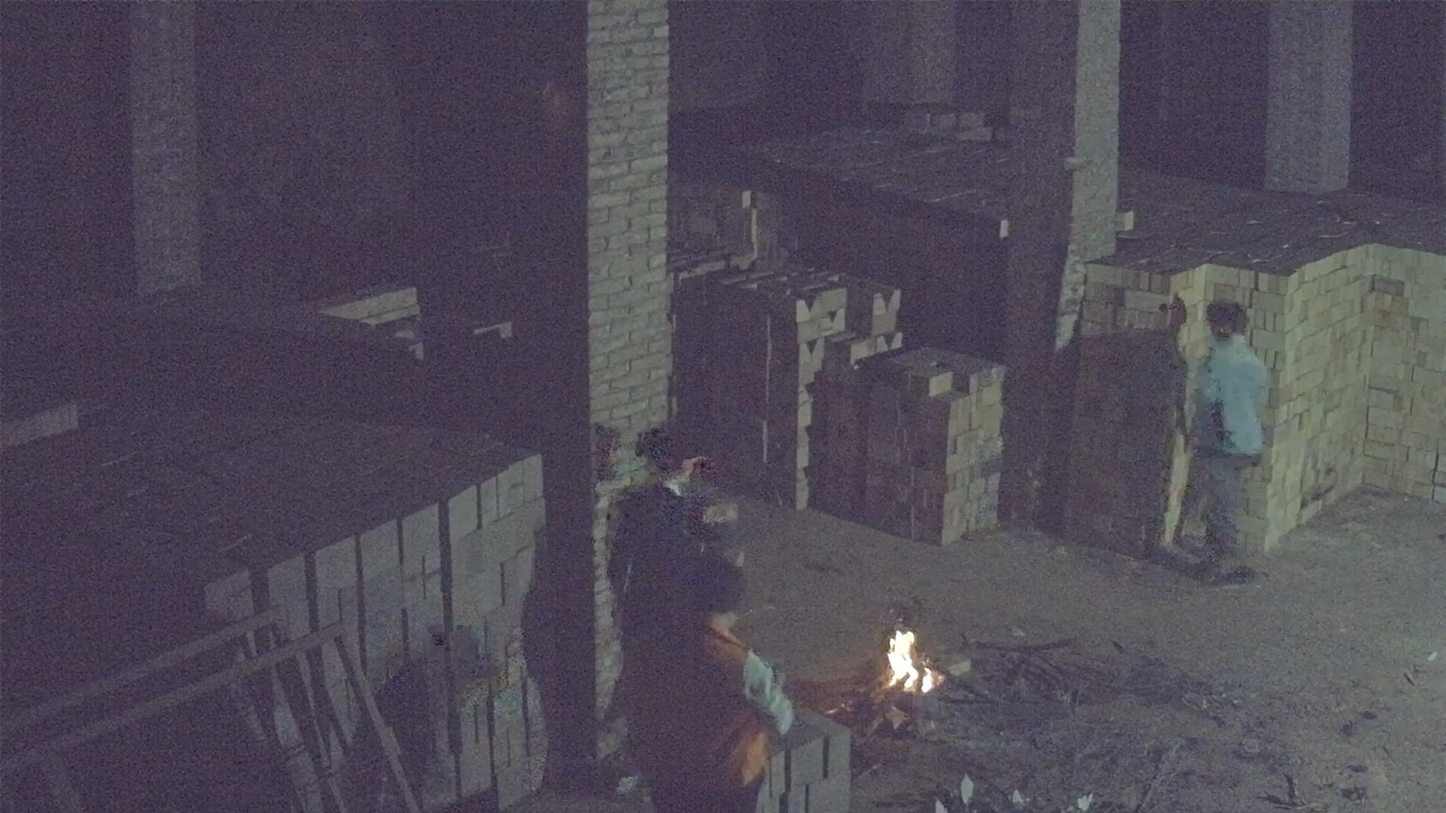fire: (887, 628, 941, 693)
